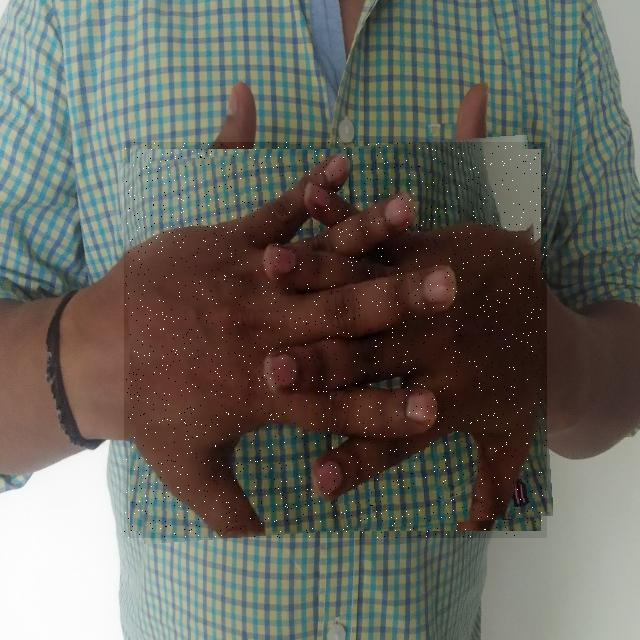W: (124, 142, 547, 538)
